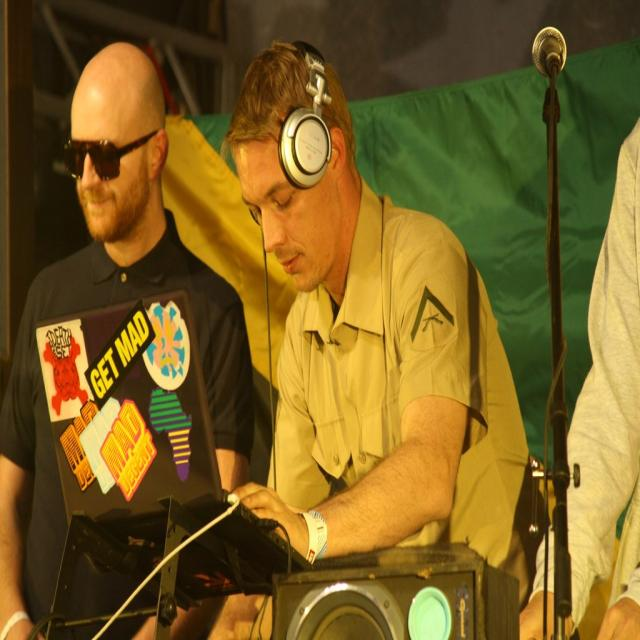no_helmet: (221, 125, 351, 269), (49, 102, 170, 234)
